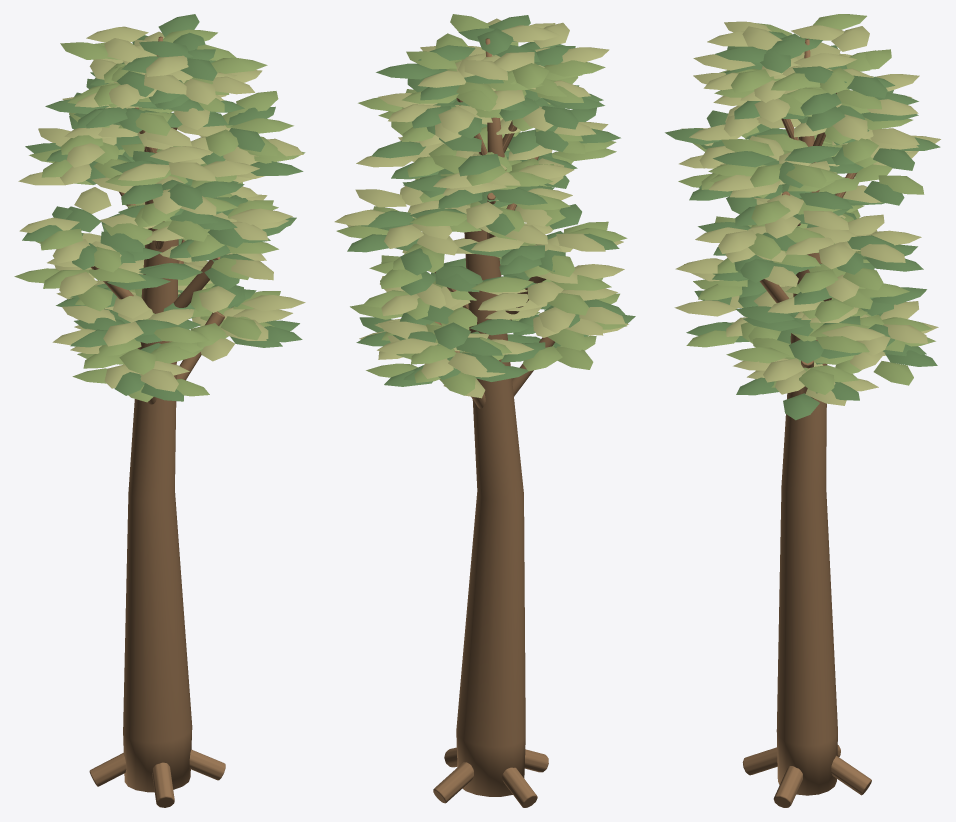
File: cozy_grove_tree.glb
3 renders of one model, left to right at view 1: azimuth 30°, elevation 25°; view 2: azimuth 150°, elevation 25°; view 3: azimuth 270°, elevation 25°, orthographic.
Parts seen in each view (by area): view 1: Crown_GroveLeafGold, grove_tree_GroveBark, Crown_GroveLeaf, Crown_GroveLeafLight; view 2: grove_tree_GroveBark, Crown_GroveLeafGold, Crown_GroveLeaf, Crown_GroveLeafLight; view 3: Crown_GroveLeafGold, Crown_GroveLeafLight, Crown_GroveLeaf, grove_tree_GroveBark.
Part boxes in pixels (x1,y1,x2,y2): Crown_GroveLeafGold: [18, 26, 305, 391]; grove_tree_GroveBark: [89, 36, 225, 807]; Crown_GroveLeaf: [22, 14, 303, 401]; Crown_GroveLeafLight: [14, 29, 305, 402]; grove_tree_GroveBark: [433, 38, 554, 807]; Crown_GroveLeafGold: [334, 18, 628, 398]; Crown_GroveLeaf: [347, 15, 635, 386]; Crown_GroveLeafLight: [336, 14, 627, 395]; Crown_GroveLeafGold: [674, 21, 940, 405]; Crown_GroveLeafLight: [678, 14, 935, 394]; Crown_GroveLeaf: [665, 31, 940, 420]; grove_tree_GroveBark: [742, 39, 871, 807].
Bounding box in the file's own units: 0.8645 × 2.29 × 0.7688.
